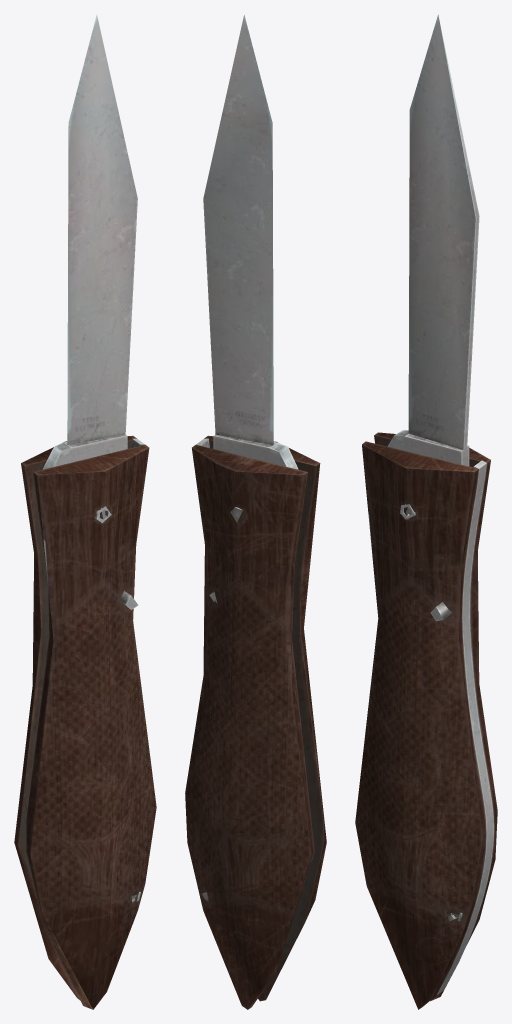
Rendered from fish_knife.glb.
The picture shows the model from 3 angles, left to right: view 1: azimuth 30°, elevation 25°; view 2: azimuth 150°, elevation 25°; view 3: azimuth 330°, elevation 25°; orthographic projection.
Visible parts, largest first — view 1: fish_knife_handle; view 2: fish_knife_handle; view 3: fish_knife_handle.
Part boxes in pixels (x1=…): fish_knife_handle: x1=14, y1=14, x2=156, y2=1009; fish_knife_handle: x1=185, y1=15, x2=326, y2=1009; fish_knife_handle: x1=355, y1=14, x2=497, y2=1009.
Size of the model in its own units: 0.0289 by 0.2157 by 0.0161.
1 material, 1 textured.
